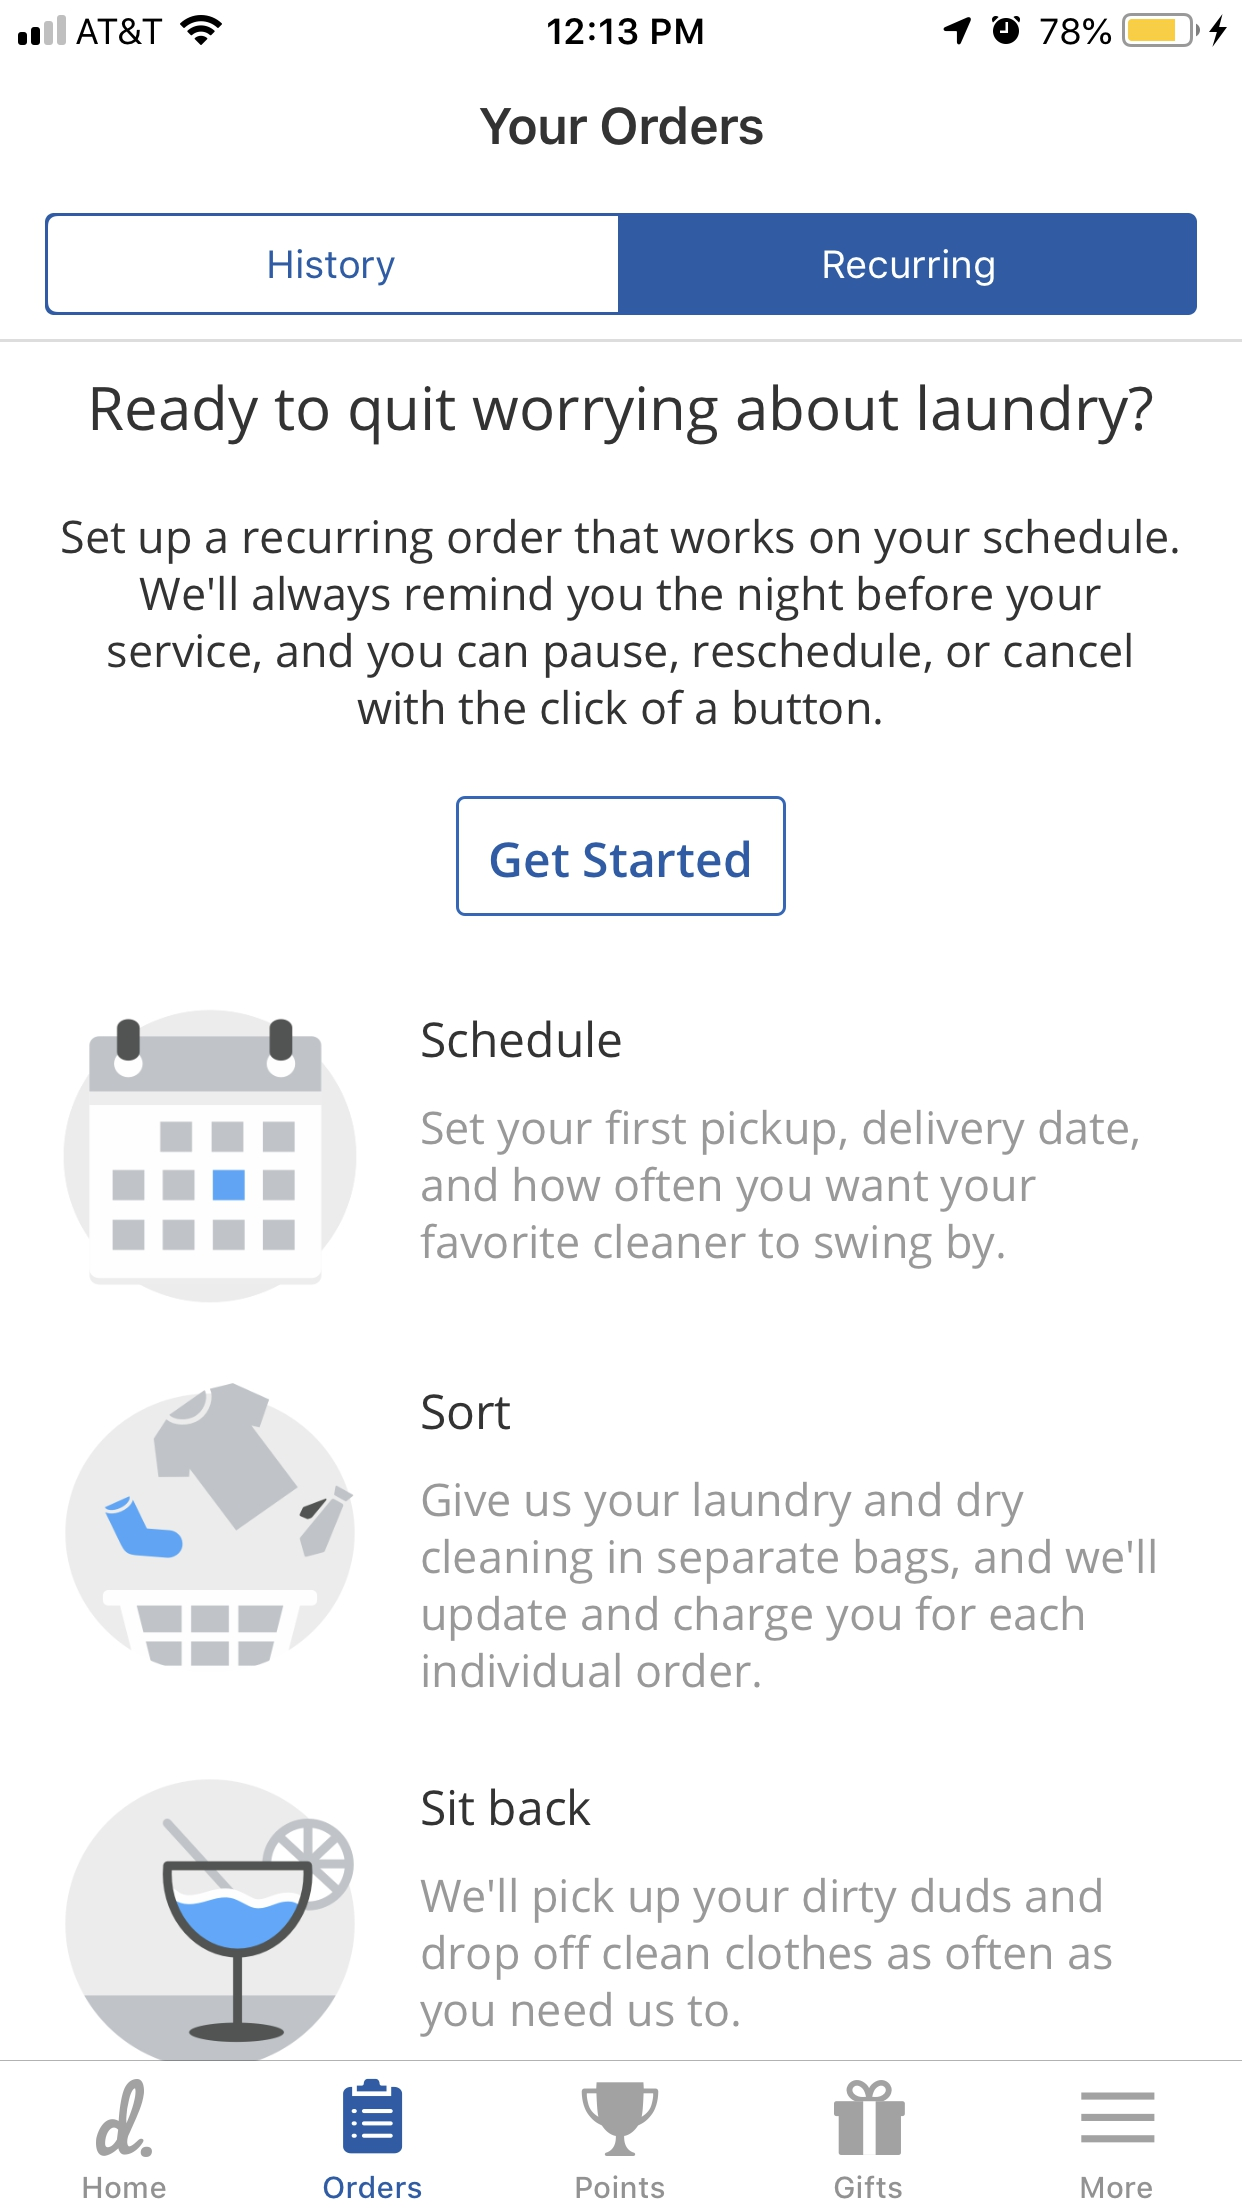Icon: (834, 2079, 905, 2156), (343, 2078, 403, 2153), (1080, 2091, 1156, 2144)
Image: (64, 1008, 359, 1304), (65, 1382, 356, 1667), (65, 1777, 356, 2059), (581, 2081, 660, 2156), (96, 2078, 155, 2158)
Text: (62, 519, 1178, 726), (422, 1482, 1156, 1692), (420, 1109, 1139, 1269), (420, 1877, 1113, 2038), (93, 384, 1153, 446), (479, 106, 764, 147), (422, 1019, 622, 1059), (422, 1786, 591, 1827), (422, 1394, 511, 1432), (325, 2175, 422, 2199), (576, 2175, 666, 2199), (83, 2176, 168, 2199), (834, 2175, 902, 2200), (1081, 2176, 1153, 2199)
TextButton: (45, 212, 619, 317), (619, 212, 1198, 315), (456, 796, 787, 917)
UpperTaskBar: (2, 2, 1242, 49)
